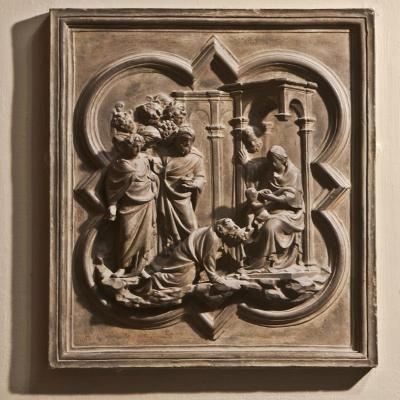sculpture: (0, 6, 400, 400)
